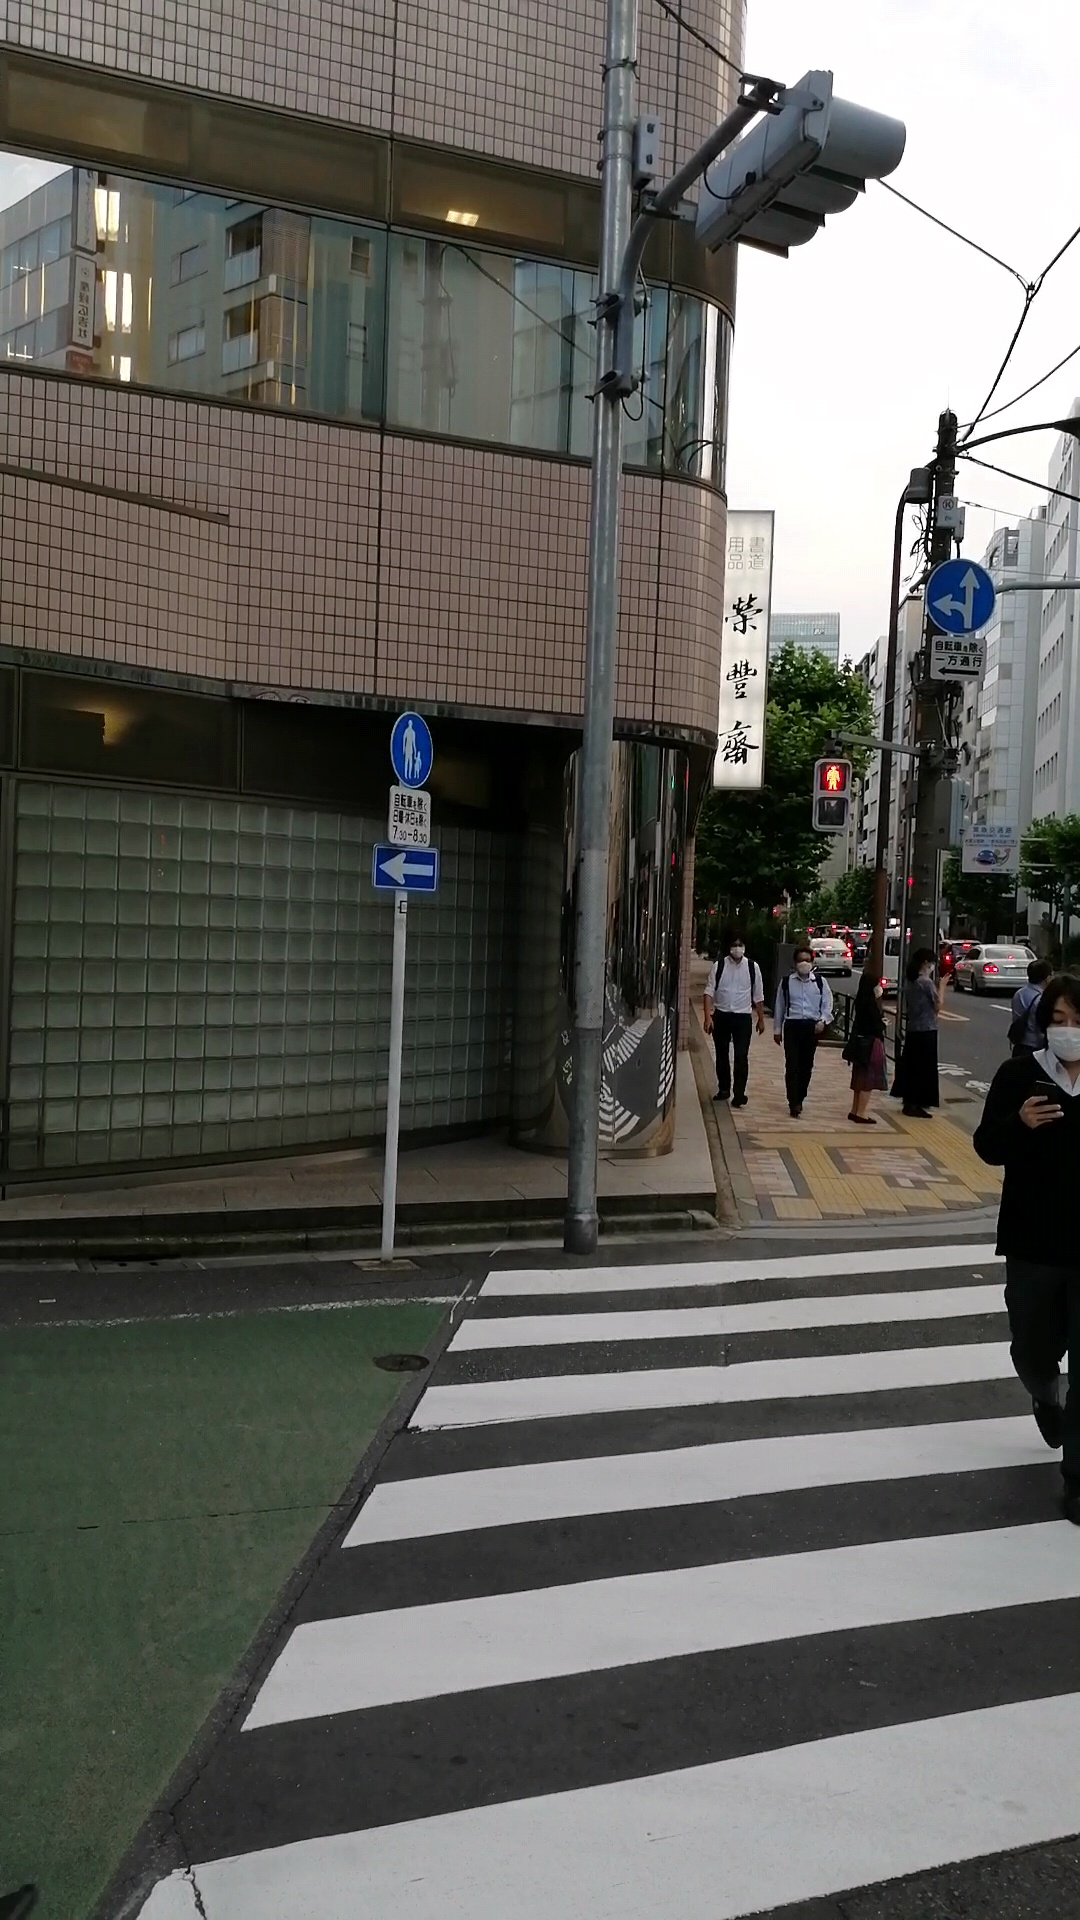red: (811, 760, 851, 829)
